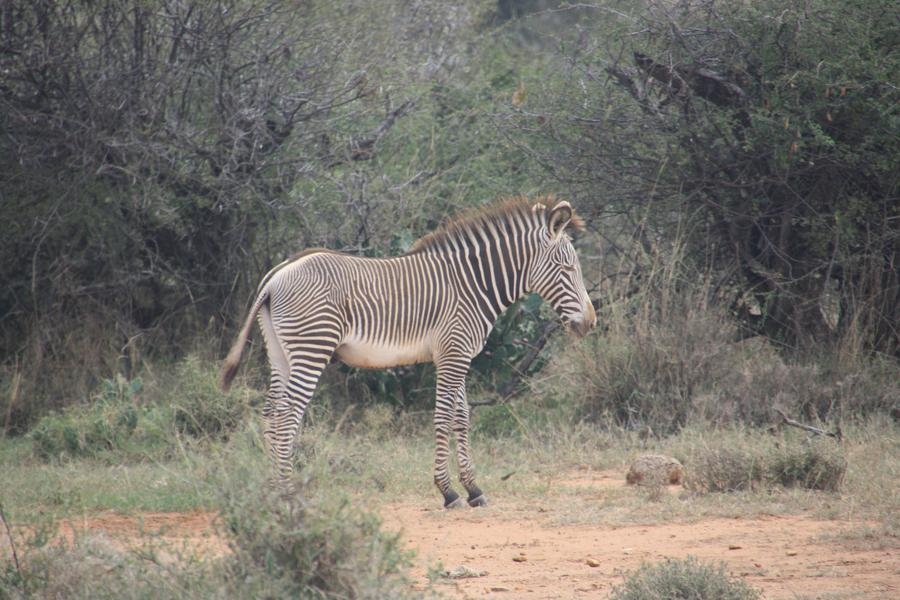zebra_grevys: (260, 237, 476, 359)
